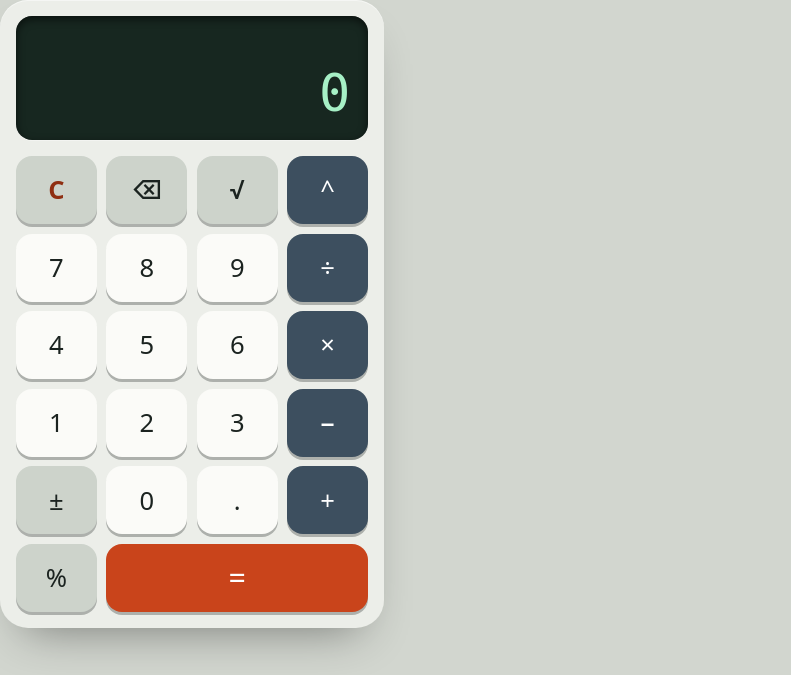
Calculator (mouse and touch) › shows a short red "Error" on the display and the explanation in a pop-up outside the calculator
The image size is (791, 675).
Click the button "1" at (56, 423), box [16, 389, 97, 457]
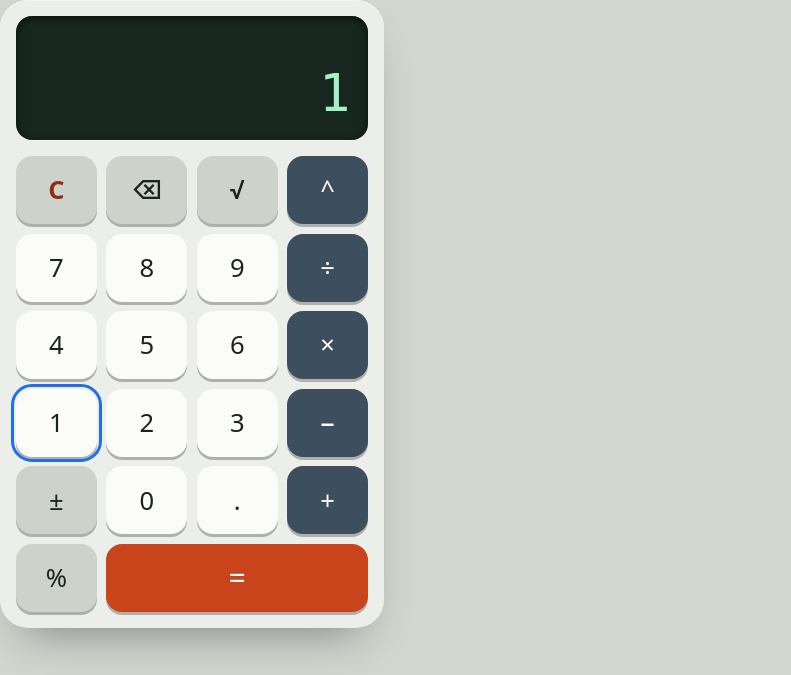
Click the button named "Divide" at (328, 268), box [287, 234, 368, 302]
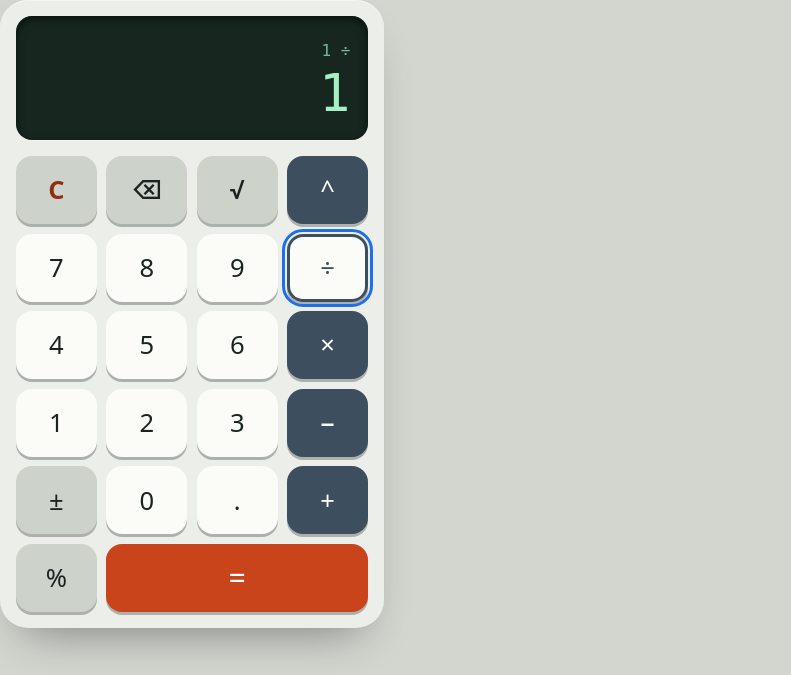
Click the button "0" at (147, 500), box [106, 466, 187, 534]
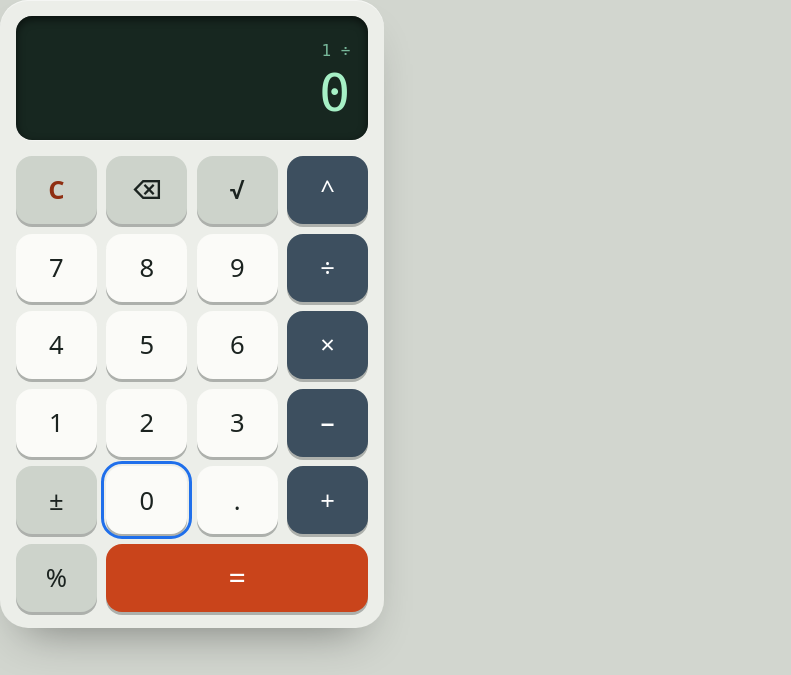
Click the button named "Equals" at (237, 578), box [106, 544, 368, 612]
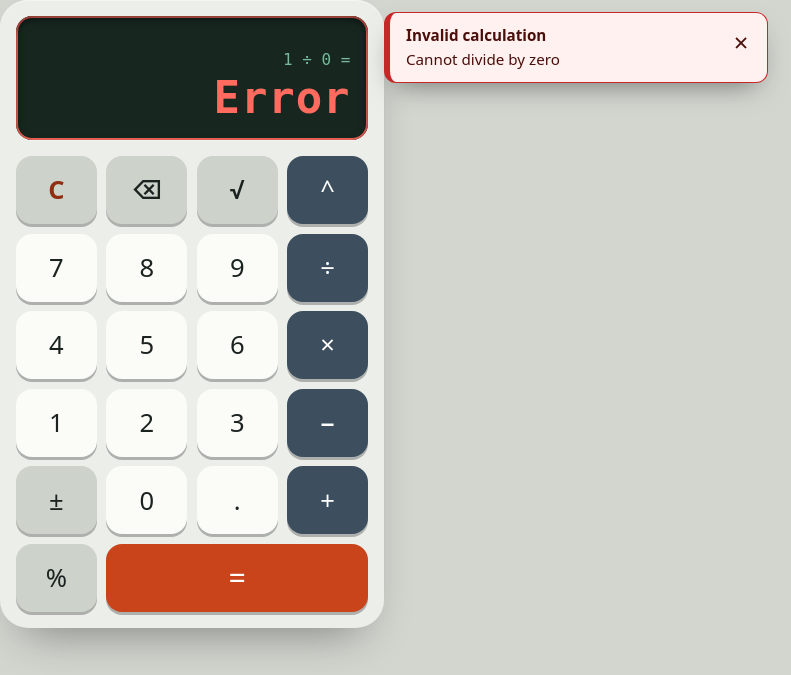
expect the message "1 ÷ 0 = Error" does not show "Cannot": met, box [16, 16, 368, 140]
expect the message "Invalid calculation Cannot divide by zero ×" is shown: met, box [384, 12, 768, 83]
expect the message "1 ÷ 0 = Error" is shown: met, box [16, 16, 368, 140]
